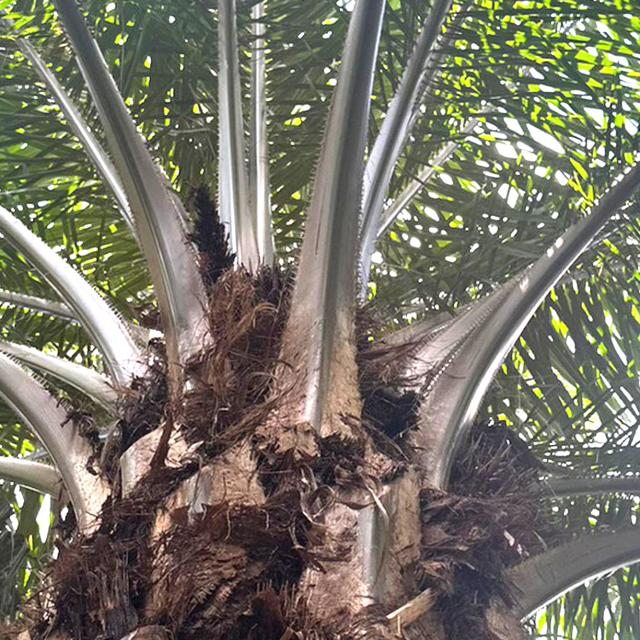unripe: (216, 253, 384, 408)
